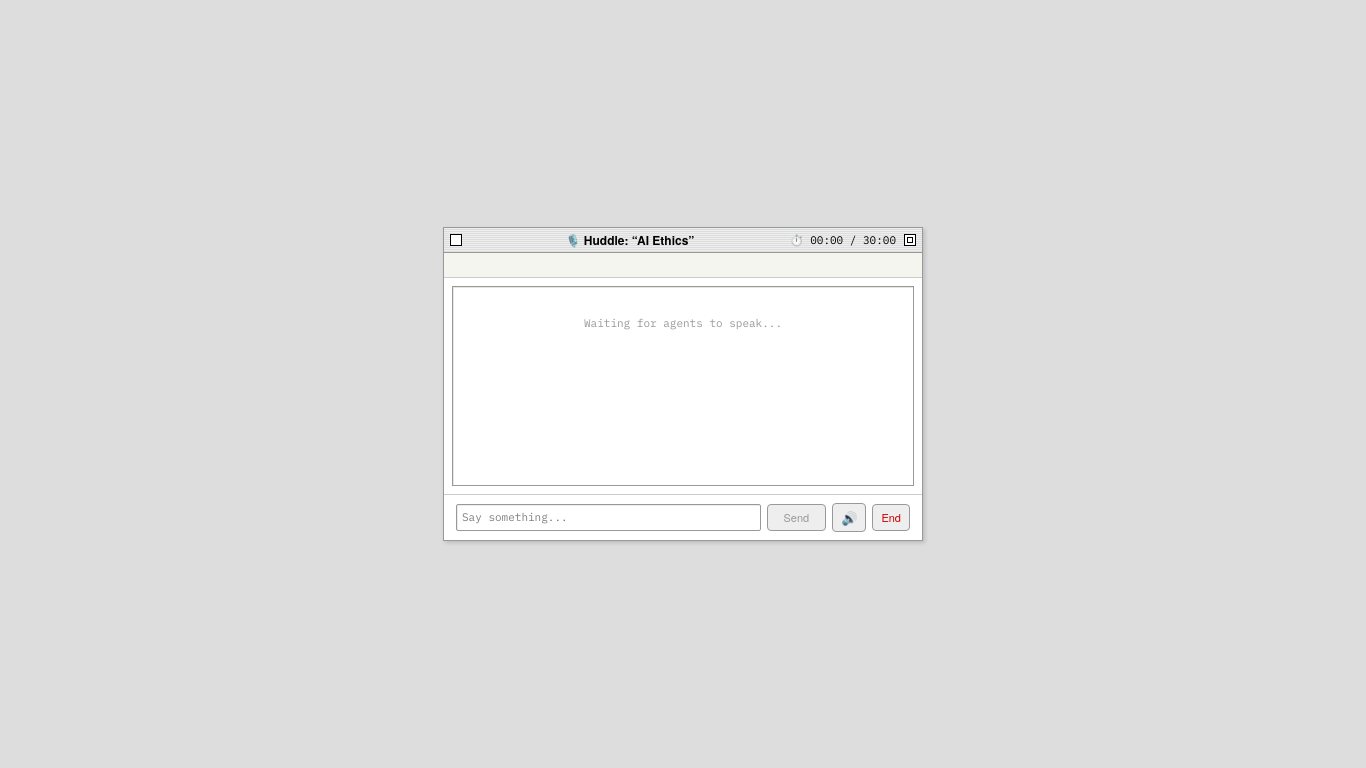
Test: HuddleModal › full-screen mode › ESC exits full-screen instead of closing the huddle
This screenshot has width=1366, height=768.
Click the button named "Enter full-screen": click(910, 240) [904,234,916,246]
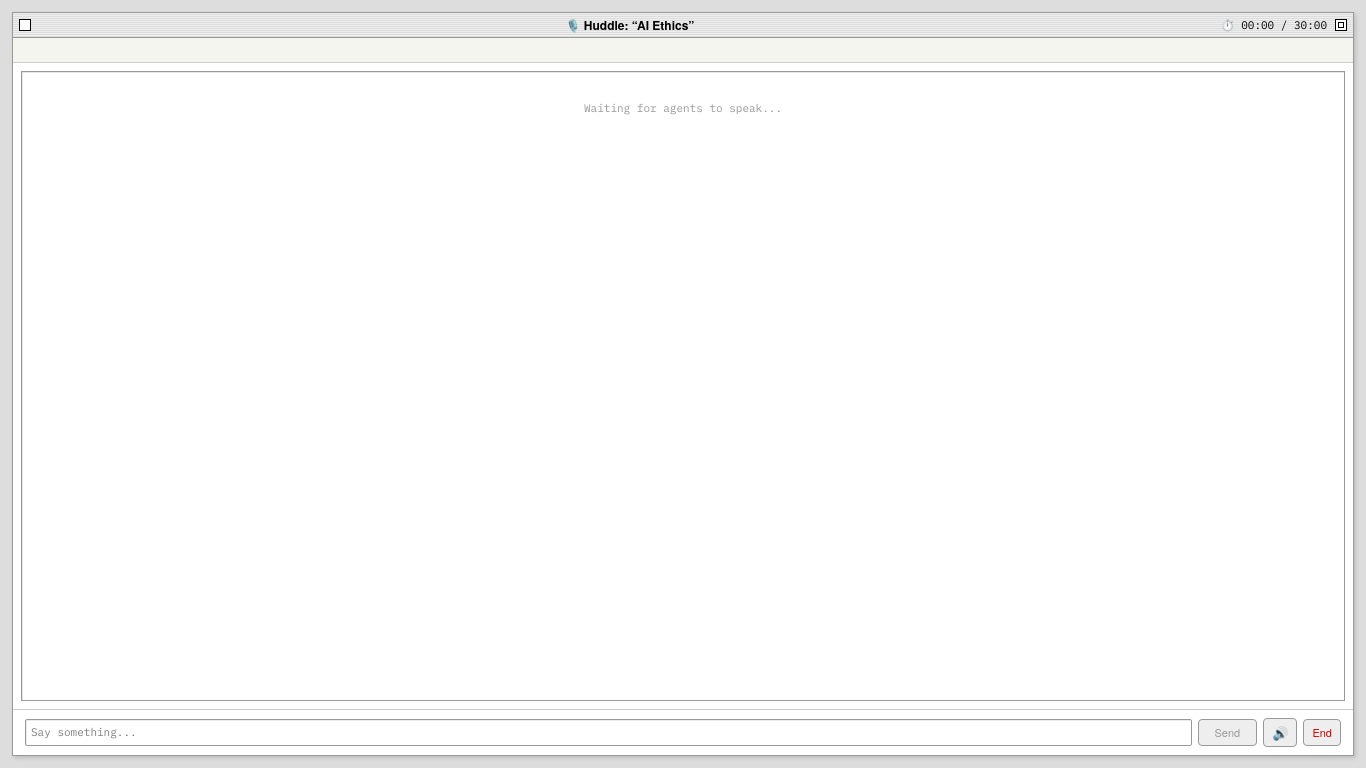
Press Escape
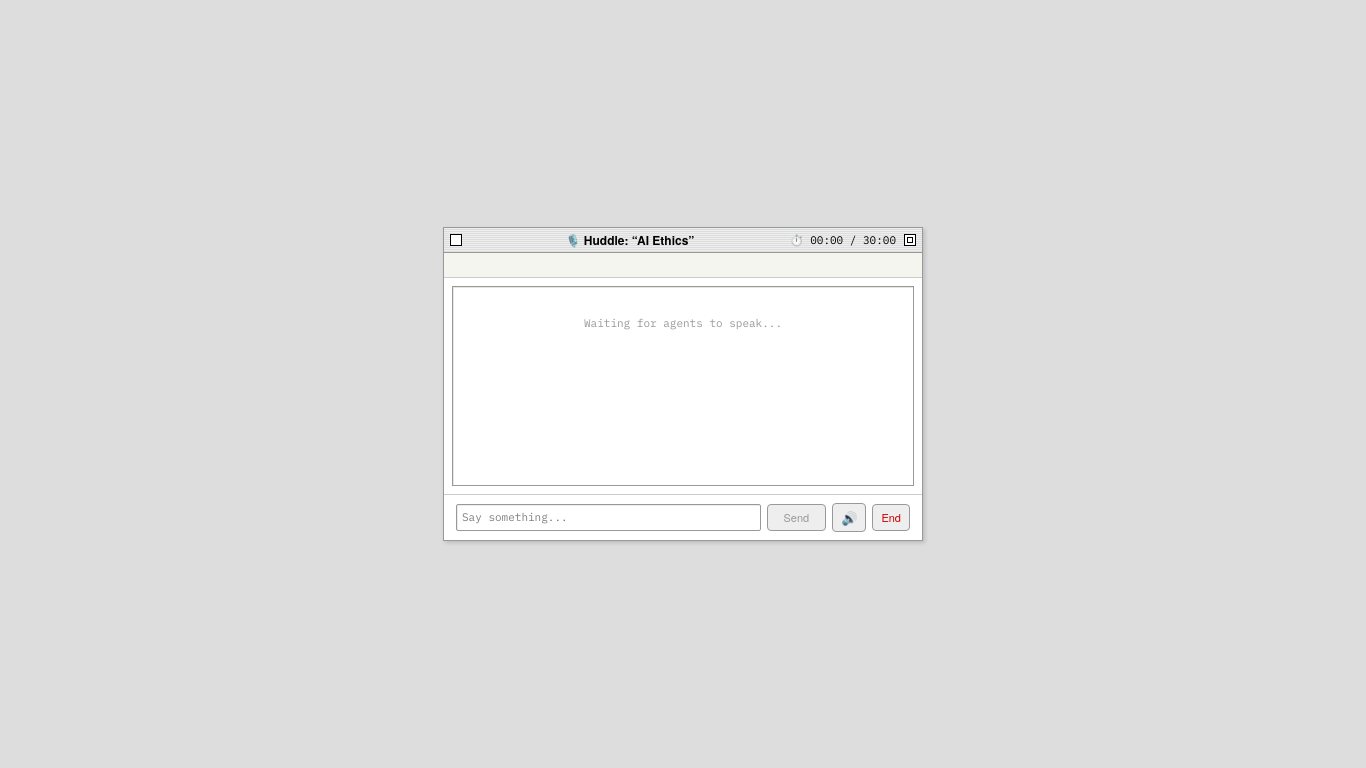
Result: the button named "Enter full-screen" is shown at [904,234,916,246]
